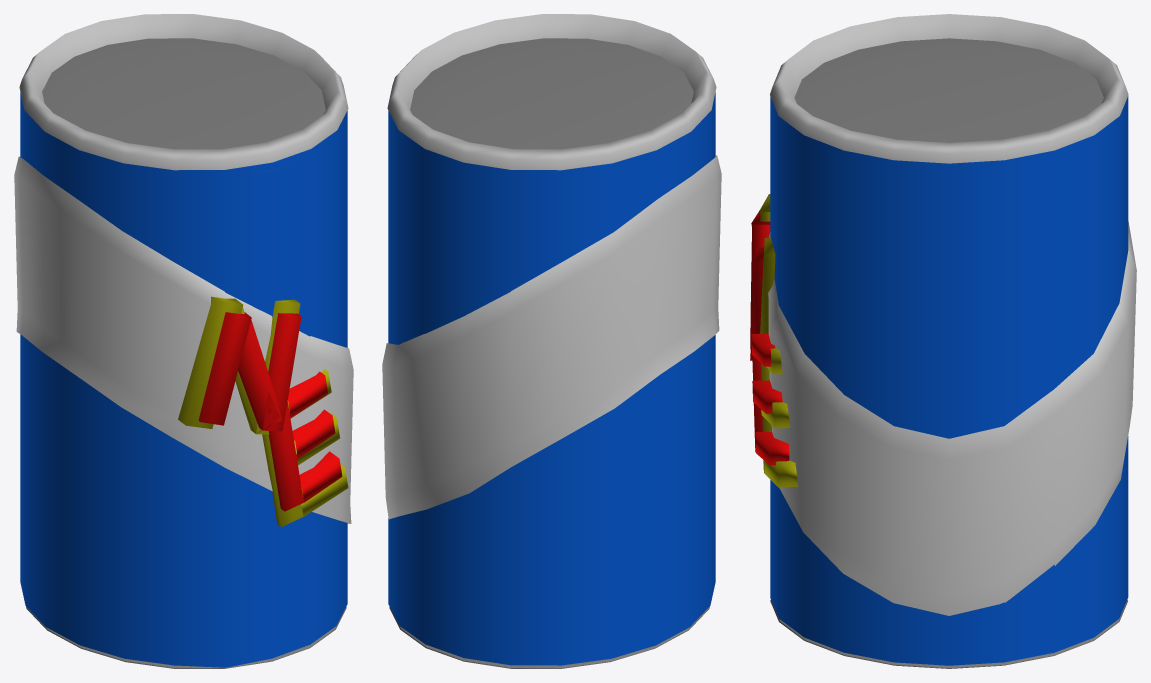
File: Nitro2.fbx
3 views of the same model, side by side, from view 1: azimuth 30°, elevation 25°; view 2: azimuth 150°, elevation 25°; view 3: azimuth 270°, elevation 25° (orthographic).
Visible parts, largest first — view 1: polySurface3; view 2: polySurface3; view 3: polySurface3.
Part boxes in pixels (x1=…): polySurface3: x1=14, y1=14, x2=353, y2=668; polySurface3: x1=382, y1=14, x2=721, y2=668; polySurface3: x1=750, y1=14, x2=1136, y2=668.
Size of the model in its own units: 1.04 by 1.81 by 1.2.
